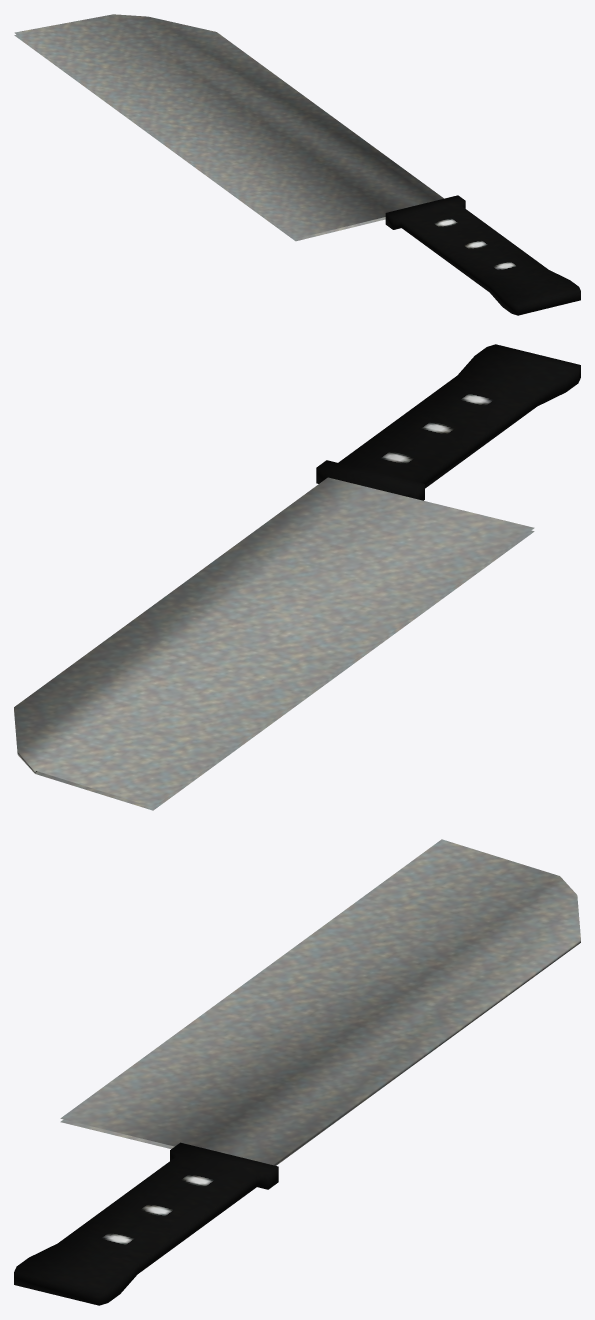
Rendered from knife_002.obj.
The picture shows the model from 3 angles, top to bottom: view 1: azimuth 30°, elevation 25°; view 2: azimuth 150°, elevation 25°; view 3: azimuth 330°, elevation 25°; orthographic projection. The views are drawn at different scales.
Parts seen in each view (by area): view 1: knife.002; view 2: knife.002; view 3: knife.002.
Boxes of the visible parts, x1=… form: knife.002: x1=14, y1=14, x2=580, y2=315; knife.002: x1=14, y1=344, x2=580, y2=810; knife.002: x1=14, y1=839, x2=580, y2=1305.
Size of the model in its own units: 0.0848 by 0.00582 by 0.3718.
